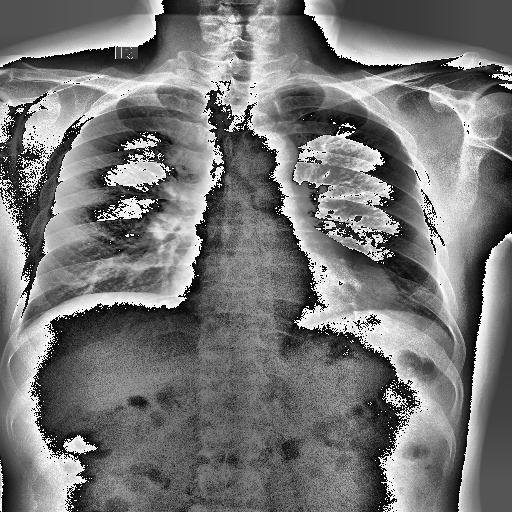0- Aortic enlargement: (235, 130, 299, 177), (246, 130, 296, 182), (245, 132, 297, 166)
3- Cardiomegaly: (172, 244, 396, 312), (170, 256, 400, 316), (170, 261, 400, 317)
